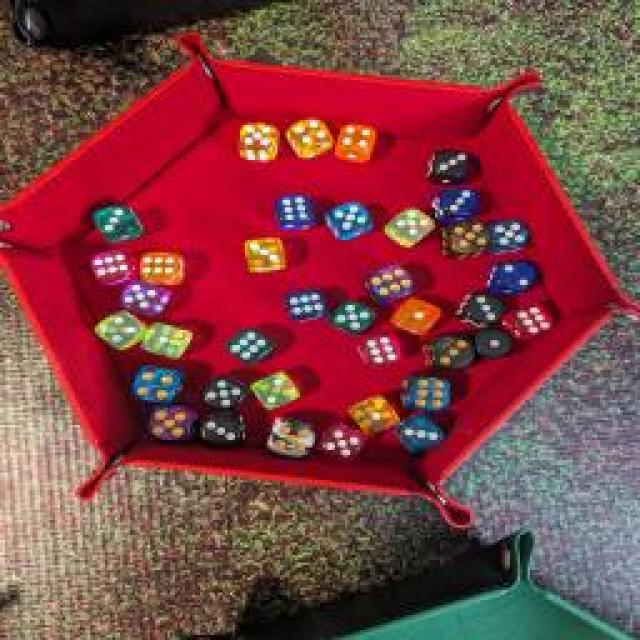dice_1: (389, 292, 446, 338), (139, 319, 199, 359), (349, 394, 399, 436), (471, 325, 514, 360)
dice_2: (249, 368, 309, 410), (482, 260, 542, 298)
dice_3: (418, 332, 482, 372), (192, 410, 252, 452), (391, 414, 449, 456), (82, 202, 142, 242), (238, 234, 294, 276), (454, 289, 504, 331), (424, 145, 476, 185), (430, 186, 480, 222)
dice_4: (90, 309, 145, 359), (286, 114, 342, 161), (322, 124, 388, 161), (124, 363, 181, 405)
dice_5: (257, 410, 315, 462), (319, 196, 376, 244), (382, 201, 436, 249), (443, 215, 495, 263), (234, 116, 284, 164), (144, 402, 196, 448), (318, 414, 364, 466), (116, 278, 174, 318), (324, 298, 374, 338), (485, 216, 537, 254), (198, 372, 242, 410)
dice_6: (220, 324, 278, 368), (360, 264, 418, 306), (131, 250, 194, 288), (503, 305, 565, 340), (401, 376, 461, 412), (271, 190, 321, 232), (278, 285, 330, 325), (354, 329, 404, 369), (86, 249, 136, 286)
